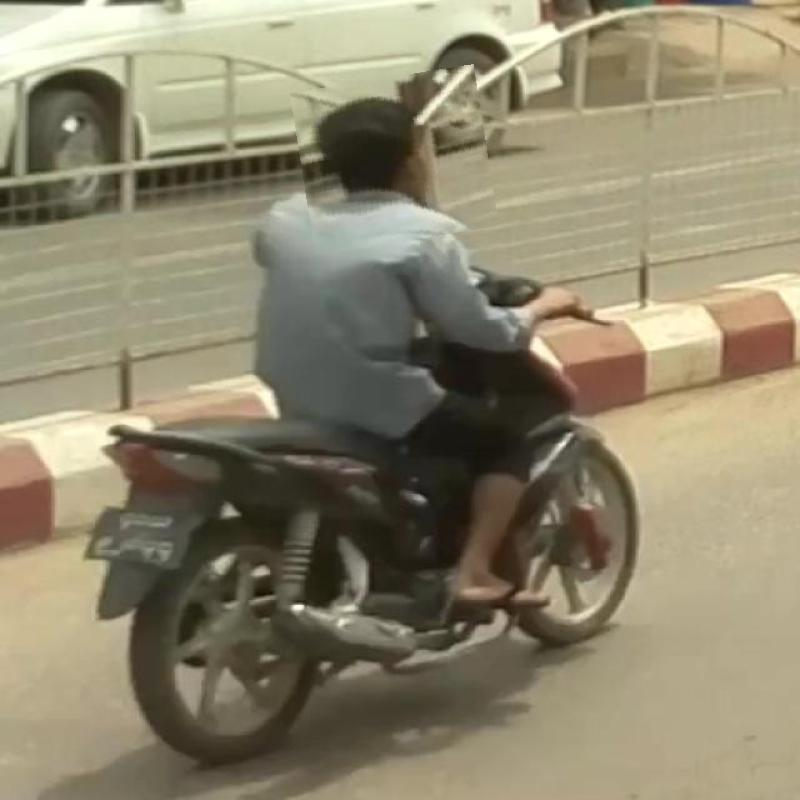nohelmet: (297, 72, 494, 249)
